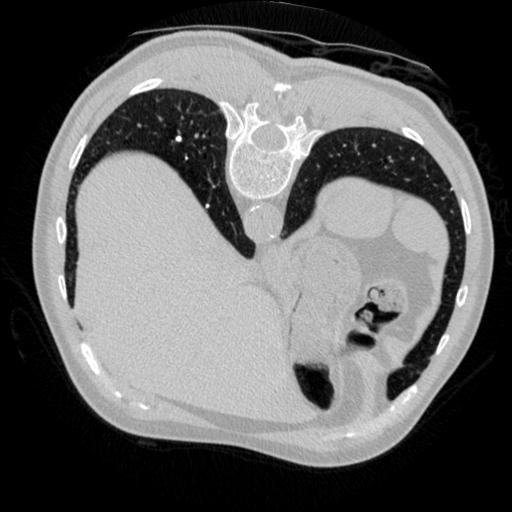nodule: (171, 133, 184, 146)
